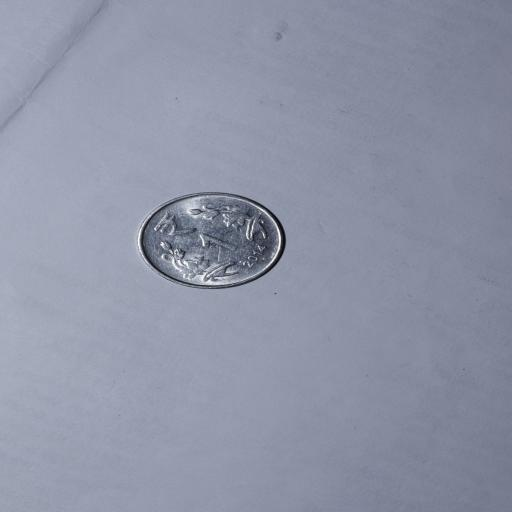rupee1: (136, 193, 284, 289)
